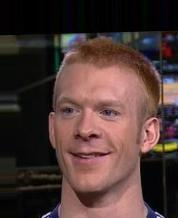face: (57, 99, 121, 164)
